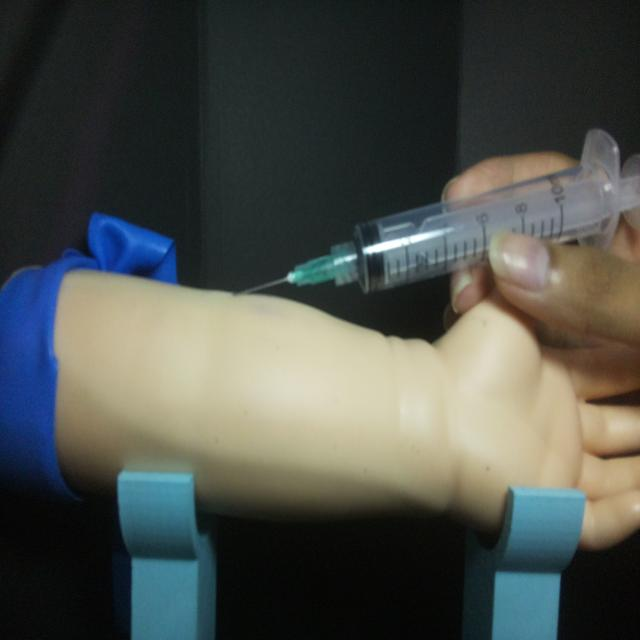20deg: (234, 125, 637, 302)
